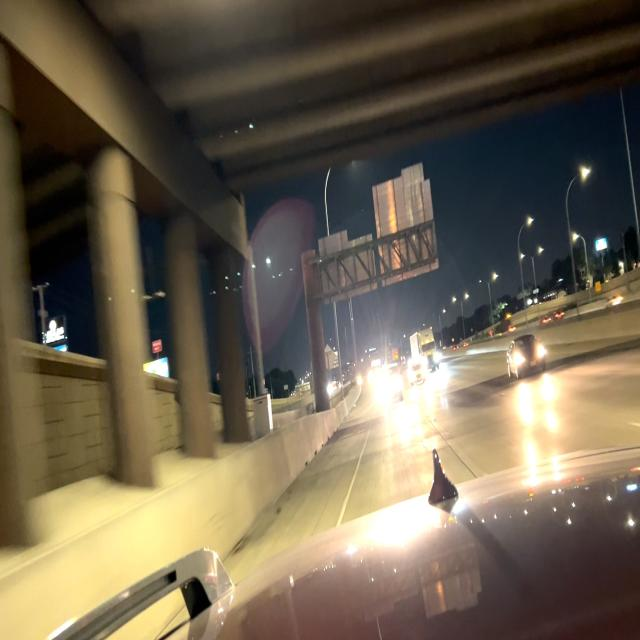back-of-sign: (316, 162, 440, 307)
